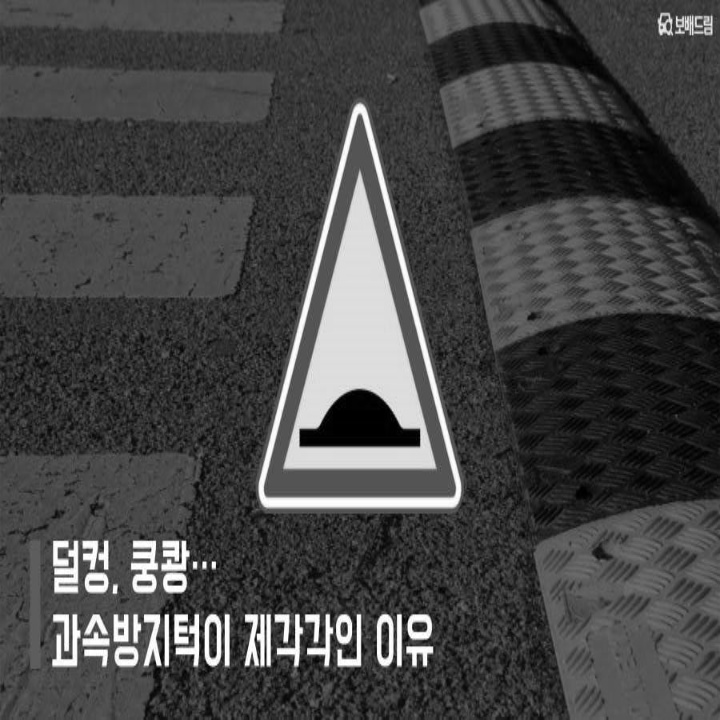bump: (286, 371, 438, 474)
